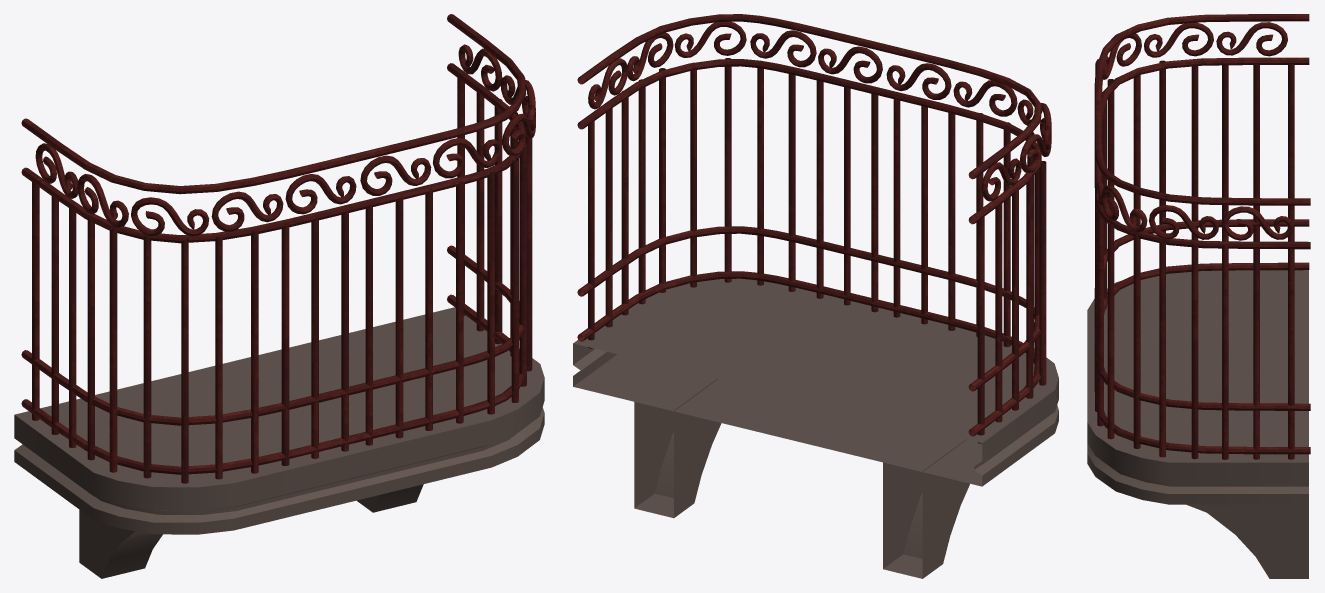
File: SK5 BALCONY.fbx
3 renders of one model, left to right at view 1: azimuth 30°, elevation 25°; view 2: azimuth 150°, elevation 25°; view 3: azimuth 270°, elevation 25°, orthographic. The views are drawn at different scales.
Visible parts, largest first — view 1: SK5 BALCONY; view 2: SK5 BALCONY; view 3: SK5 BALCONY.
Part boxes in pixels (<box>): SK5 BALCONY: <box>14,14,544,578</box>; SK5 BALCONY: <box>573,14,1058,578</box>; SK5 BALCONY: <box>1087,14,1310,578</box>.
Size of the model in its own units: 141 by 138 by 69.13.
